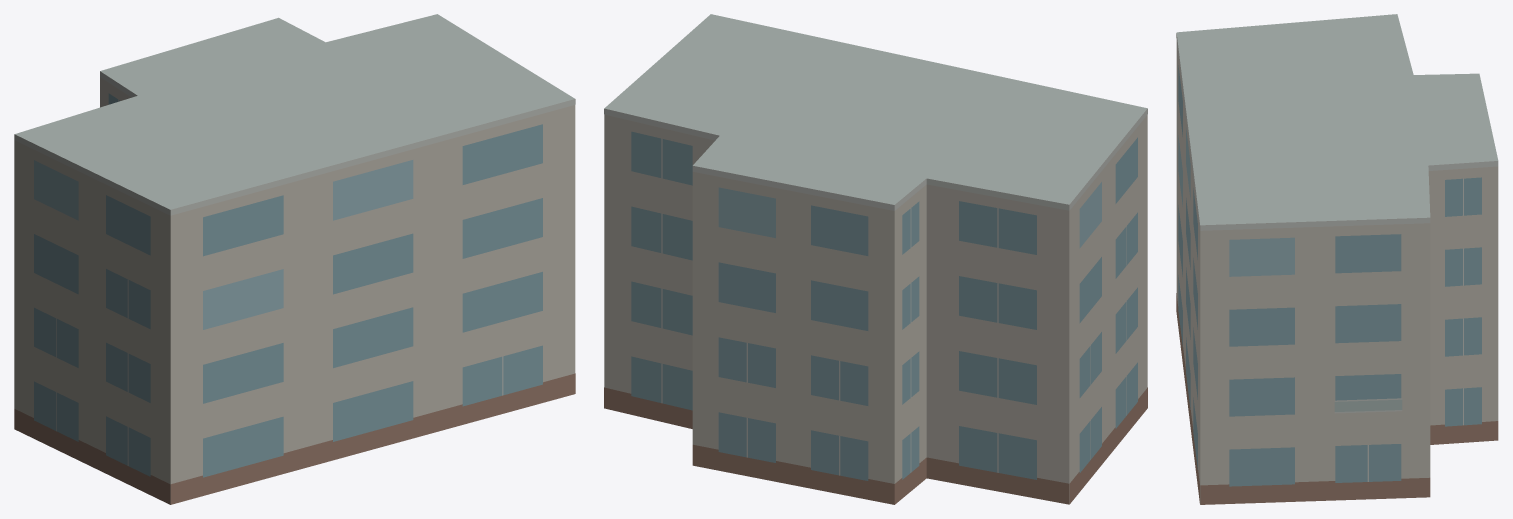
The model's file is survey-upis-32907374.glb.
The picture shows the model from 3 angles, left to right: view 1: azimuth 30°, elevation 25°; view 2: azimuth 150°, elevation 25°; view 3: azimuth 270°, elevation 25°; orthographic projection. The views are drawn at different scales.
Visible parts, largest first — view 1: survey-upis-32907374.tmp; view 2: survey-upis-32907374.tmp; view 3: survey-upis-32907374.tmp.
Boxes of the visible parts, left/top/right/bottom form: survey-upis-32907374.tmp: left=14, top=14, right=575, bottom=504; survey-upis-32907374.tmp: left=604, top=14, right=1147, bottom=504; survey-upis-32907374.tmp: left=1176, top=14, right=1498, bottom=504.
Size of the model in its own units: 19.78 by 12.2 by 12.74.
